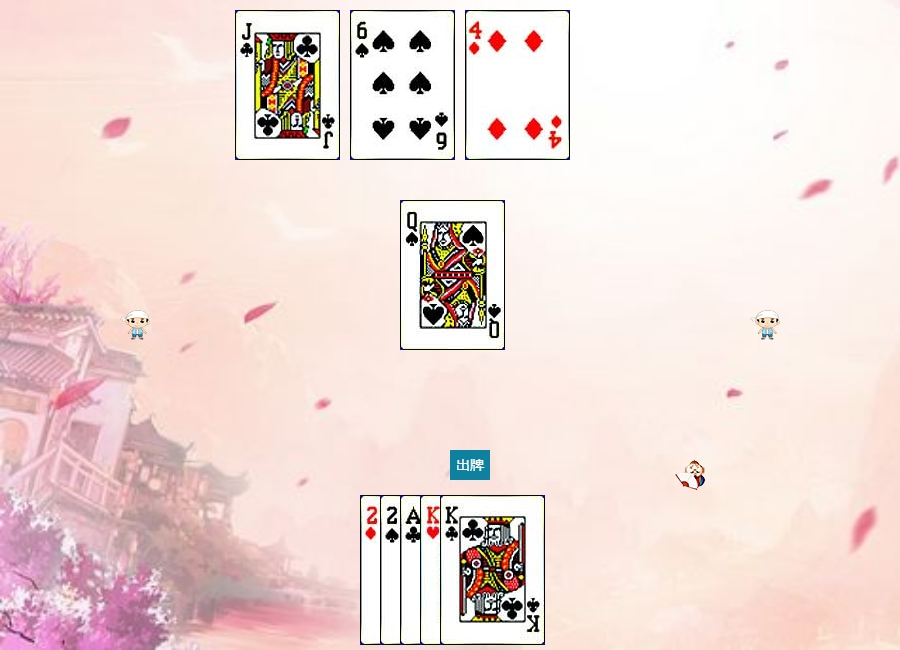11~2: (235, 10, 340, 160)
12~4: (400, 200, 505, 350)
13~2: (440, 495, 545, 645)
13~3: (420, 495, 525, 645)
14~2: (400, 495, 505, 645)
15~1: (360, 495, 465, 645)
15~4: (380, 495, 485, 645)
4~1: (465, 10, 570, 160)
6~4: (350, 10, 455, 160)
